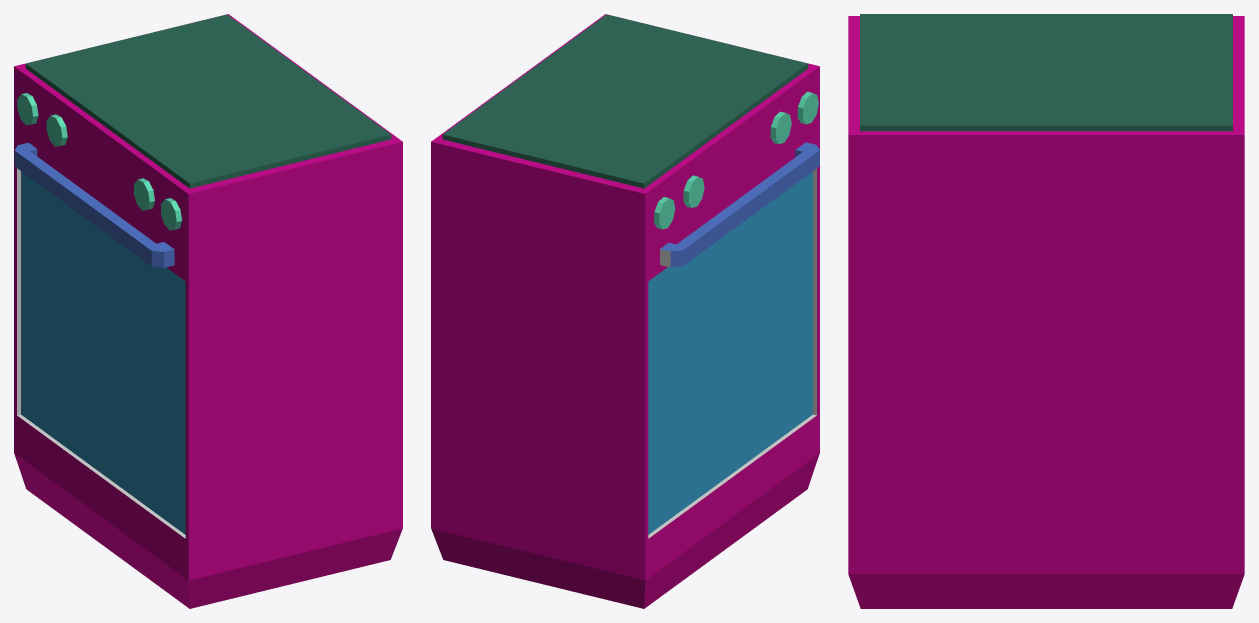
The model's file is Piekarnik2fbx.fbx.
The picture shows the model from 3 angles, left to right: view 1: azimuth 30°, elevation 25°; view 2: azimuth 150°, elevation 25°; view 3: azimuth 270°, elevation 25°; orthographic projection. The views are drawn at different scales.
Visible parts, largest first — view 1: Piekarnik; view 2: Piekarnik; view 3: Piekarnik.
Boxes of the visible parts, left/top/right/bottom form: Piekarnik: left=14, top=14, right=402, bottom=608; Piekarnik: left=431, top=14, right=819, bottom=608; Piekarnik: left=848, top=14, right=1244, bottom=608.
Size of the model in its own units: 217 by 379 by 282.
